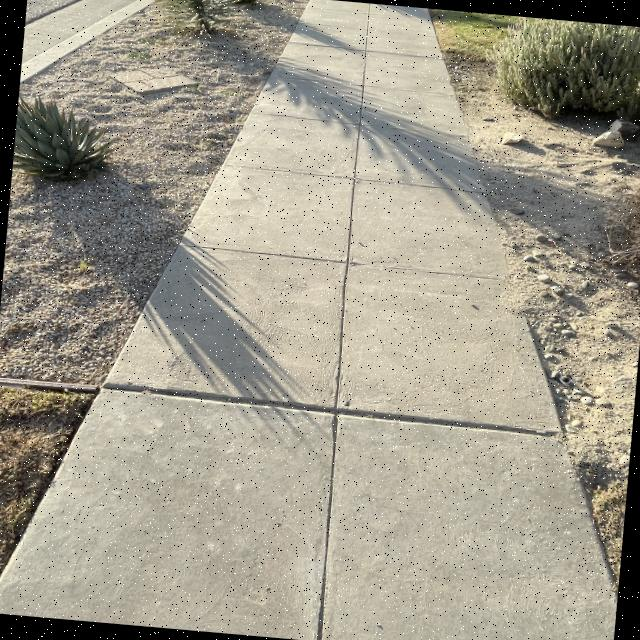walkway: (51, 478, 590, 640), (99, 367, 562, 548), (150, 278, 526, 462), (198, 187, 504, 356), (238, 120, 477, 258), (276, 56, 452, 154), (304, 0, 432, 91)
walkway-edge: (149, 69, 231, 331), (480, 272, 595, 458), (524, 392, 630, 586), (432, 95, 532, 262), (25, 396, 107, 536), (102, 248, 172, 401), (412, 21, 490, 134), (269, 2, 322, 77)
